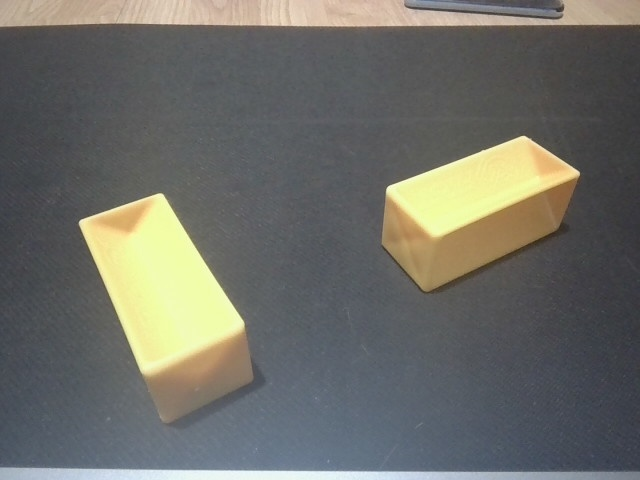YellowSample: (75, 189, 259, 427), (379, 133, 584, 296)
